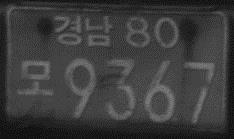0: (152, 16, 182, 50)
3: (103, 57, 136, 123)
6: (142, 58, 177, 124)
7: (180, 59, 216, 126)
8: (124, 14, 151, 50)
9: (63, 57, 98, 119)
경남_O: (51, 12, 114, 49)
모: (16, 58, 56, 98)
